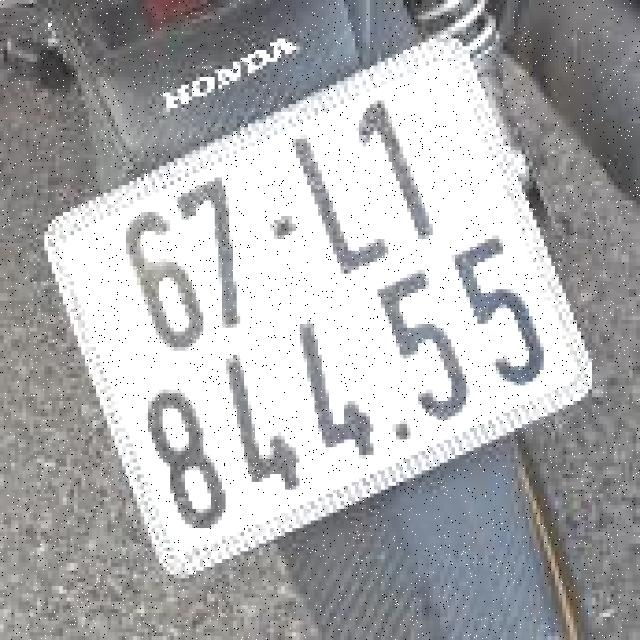1: (339, 79, 464, 253)
4: (275, 296, 391, 477), (207, 336, 317, 516)
5: (439, 211, 569, 406), (356, 252, 488, 442)
6: (110, 193, 219, 364)
7: (164, 162, 266, 343)
8: (133, 367, 245, 545)
L: (275, 106, 409, 294)
